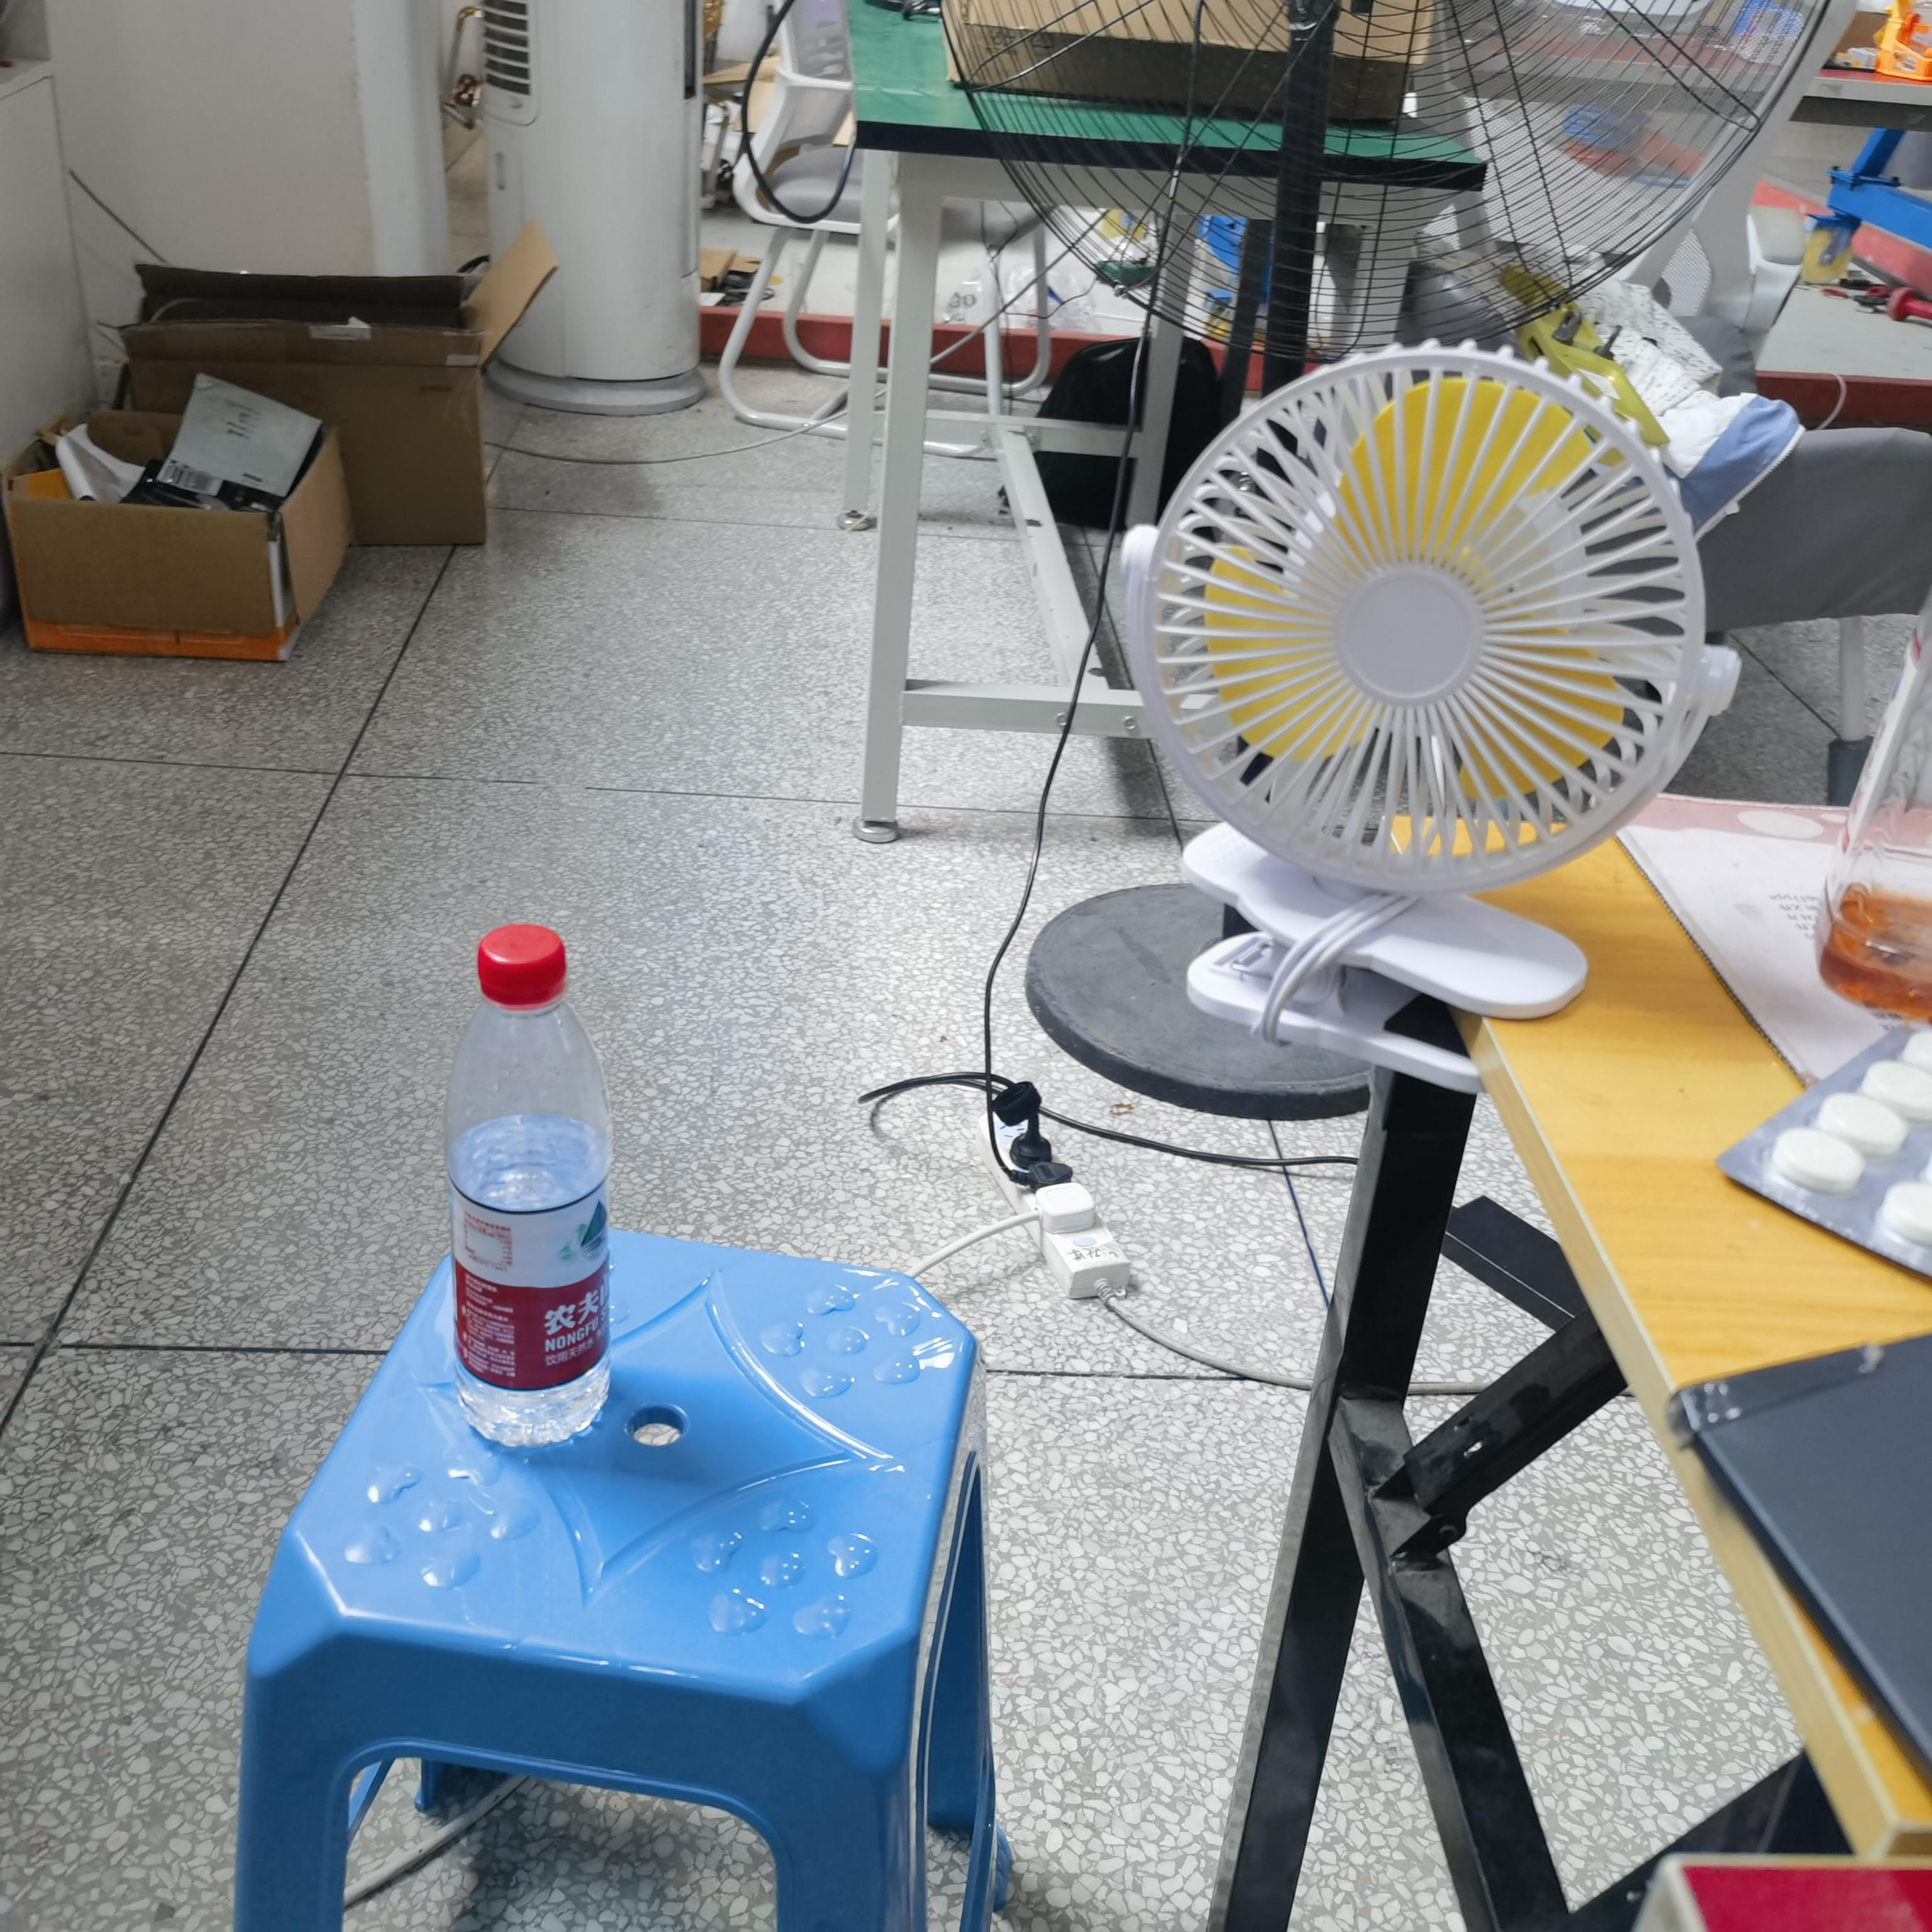bottle: (418, 922, 639, 1461)
fan: (1104, 338, 1752, 1109)
